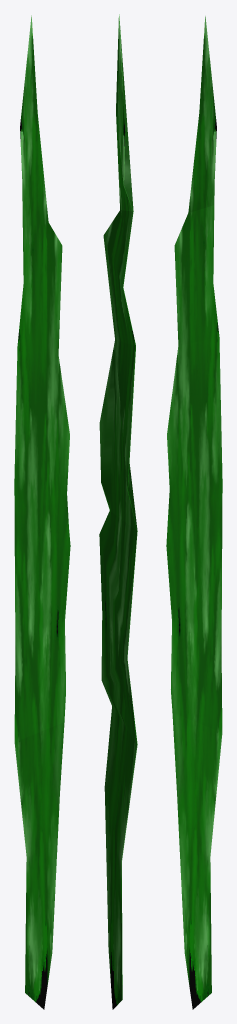
Rendered from seaweed.fbx.
The picture shows the model from 3 angles, left to right: view 1: azimuth 90°, elevation 25°; view 2: azimuth 210°, elevation 25°; view 3: azimuth 270°, elevation 25°; orthographic projection.
Parts seen in each view (by area): view 1: leaf1; view 2: leaf1; view 3: leaf1.
Boxes of the visible parts, <box> form: leaf1: <box>14,15,70,1009</box>; leaf1: <box>99,14,137,1009</box>; leaf1: <box>166,16,222,1009</box>.
Bounding box in the file's own units: 0.00247 × 0.2337 × 0.0119.
1 material, 1 textured.
